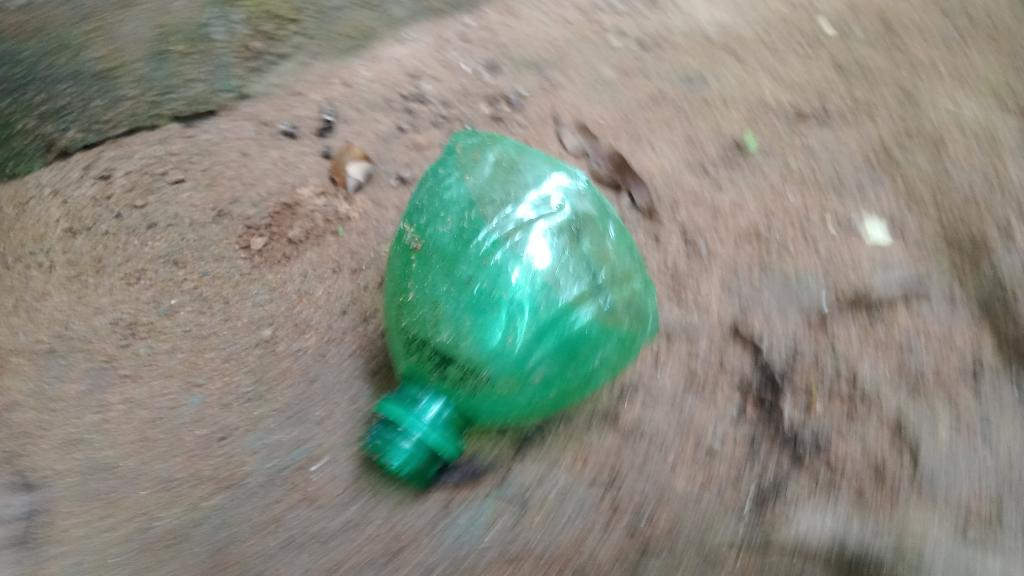garbage: (327, 95, 675, 517)
